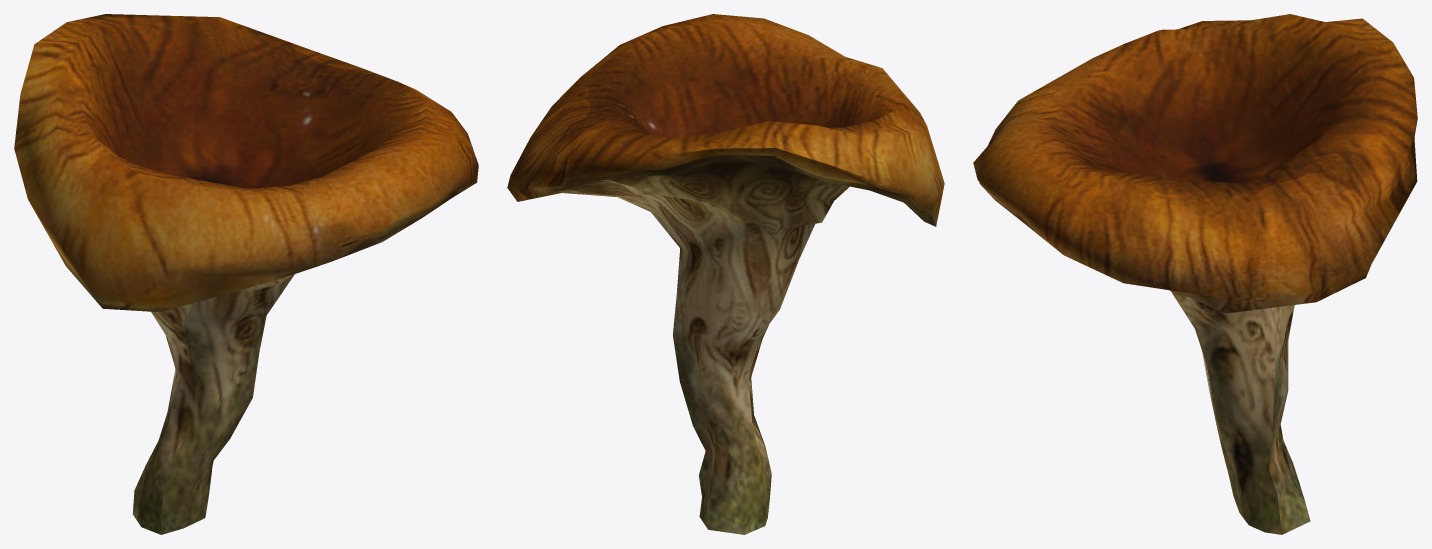
File: 1_ZhiWu_GuanMu03.FBX
3 renders of one model, left to right at view 1: azimuth 30°, elevation 25°; view 2: azimuth 150°, elevation 25°; view 3: azimuth 270°, elevation 25°, orthographic. The views are drawn at different scales.
Visible parts, largest first — view 1: DrawCall_0065; view 2: DrawCall_0065; view 3: DrawCall_0065.
Part boxes in pixels (x1=…): DrawCall_0065: x1=14, y1=14, x2=478, y2=534; DrawCall_0065: x1=507, y1=14, x2=944, y2=534; DrawCall_0065: x1=973, y1=14, x2=1417, y2=534.
Bounding box in the file's own units: 0.0302 × 0.0337 × 0.0286.
